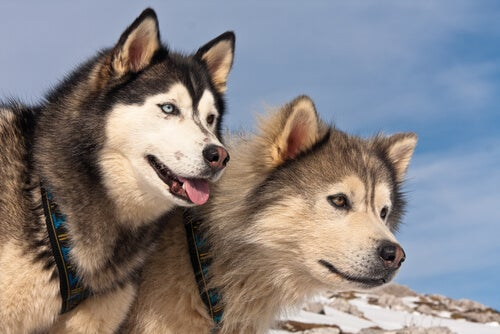husky: (13, 3, 240, 316)
